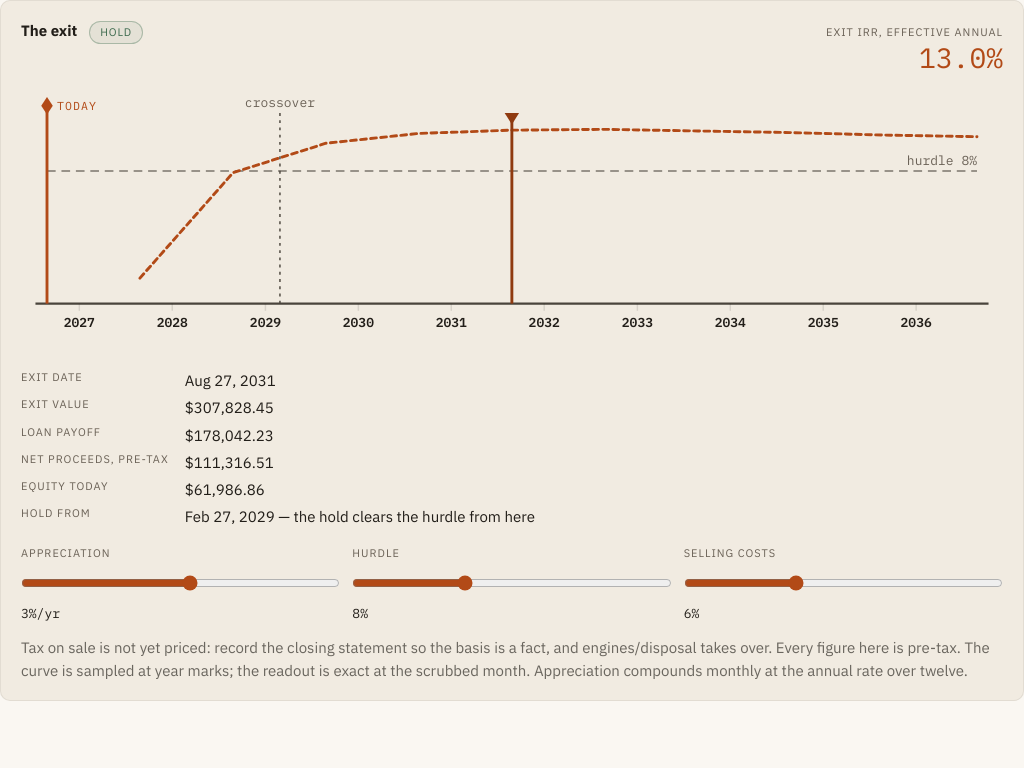
ExitTimeline › marks a decaying leveraged return with the to-redeploy crossover
Set the slider labelled "Hurdle" to "12.5" at (537, 583), box x1=352 y1=566 x2=672 y2=600
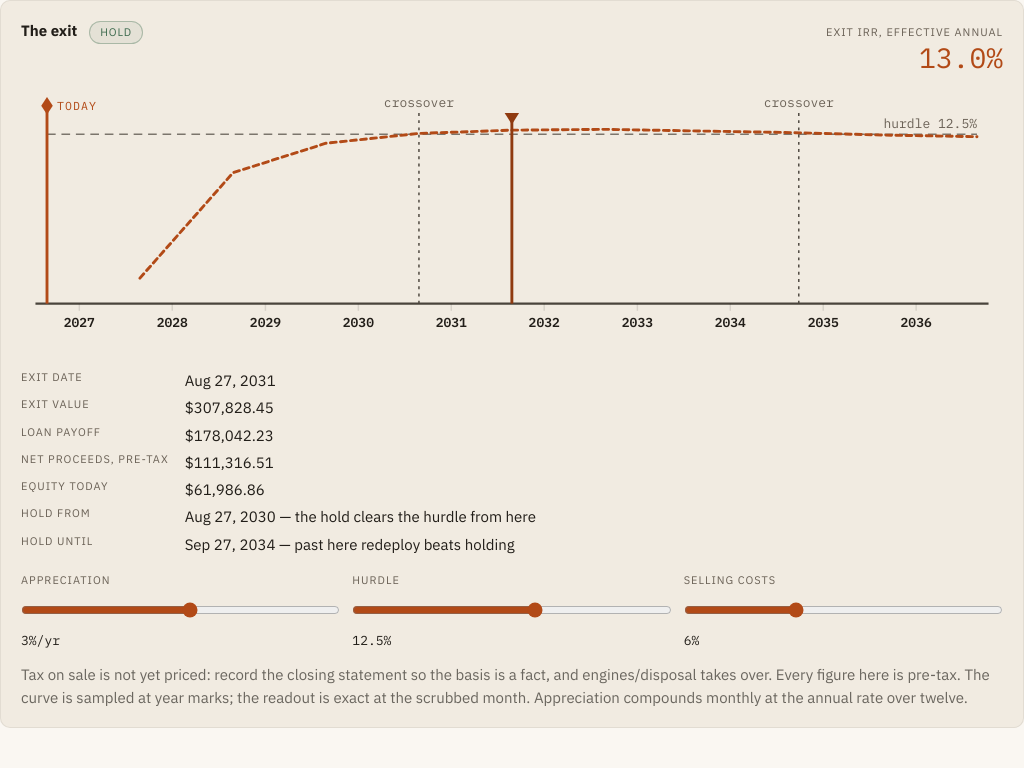
Now the text "Sep 27, 2034 — past here redeploy beats holding" is shown, box x1=185 y1=534 x2=515 y2=554
